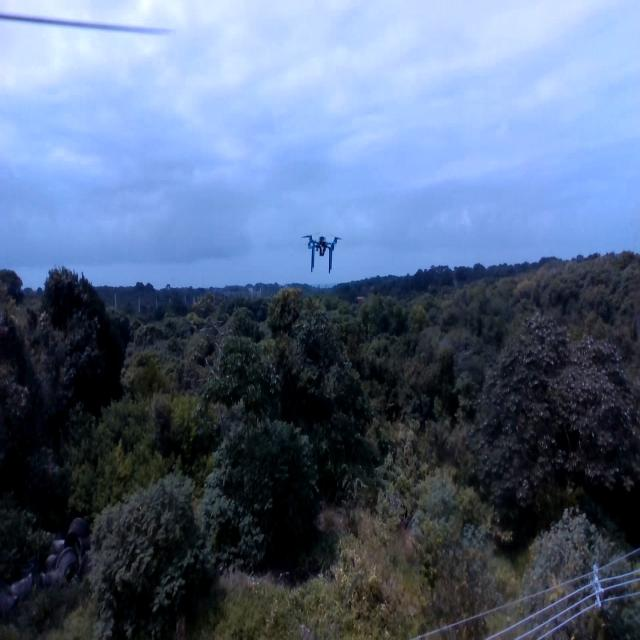-uav-: (297, 221, 346, 280)
